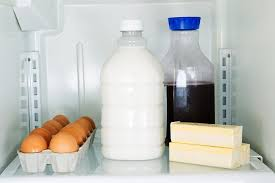milk: (90, 19, 167, 161)
